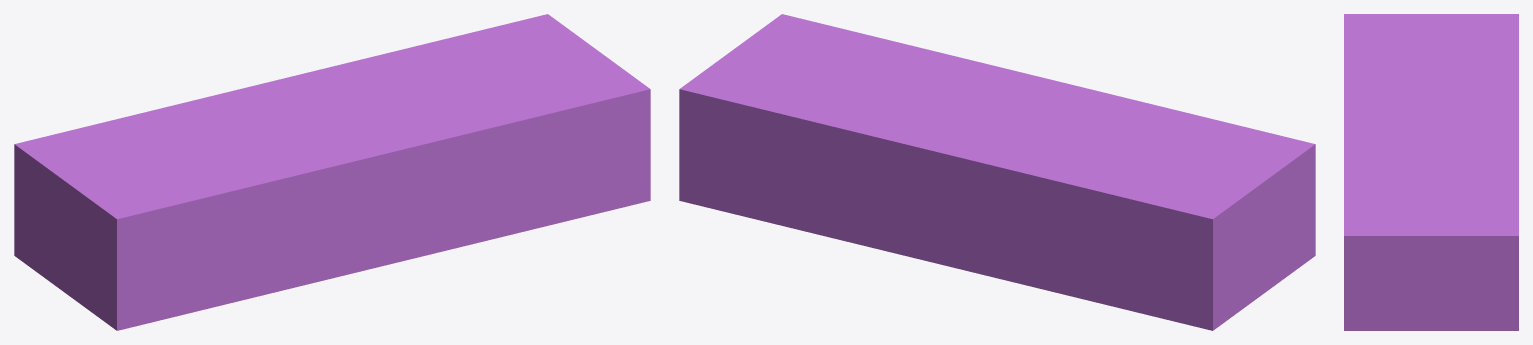
Rendered from Cantilever_Modules.glb.
3 views of the same model, side by side, from view 1: azimuth 30°, elevation 25°; view 2: azimuth 150°, elevation 25°; view 3: azimuth 270°, elevation 25° (orthographic). The views are drawn at different scales.
Visible parts, largest first — view 1: Module_Cantilever; view 2: Module_Cantilever; view 3: Module_Cantilever.
Boxes of the visible parts, x1,y1,x2,y2 form: Module_Cantilever: (14,14,650,330); Module_Cantilever: (679,14,1315,330); Module_Cantilever: (1344,14,1518,330).
Bounding box in the file's own units: 3 × 0.6 × 1.
